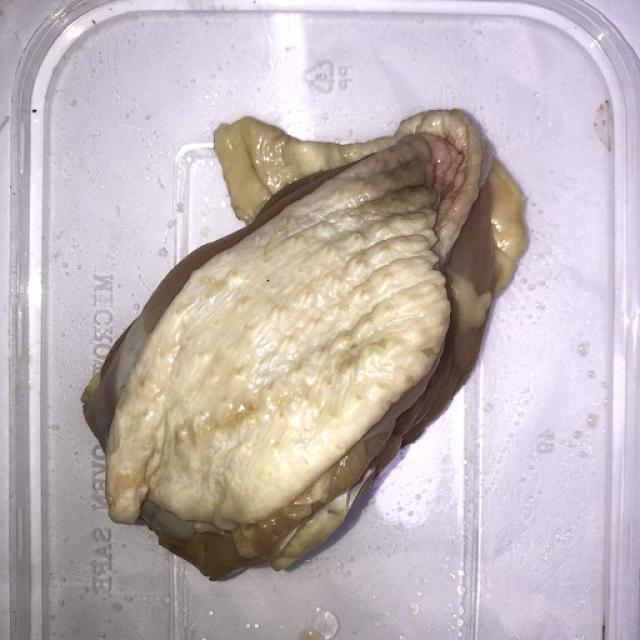chicken: (87, 107, 522, 580)
